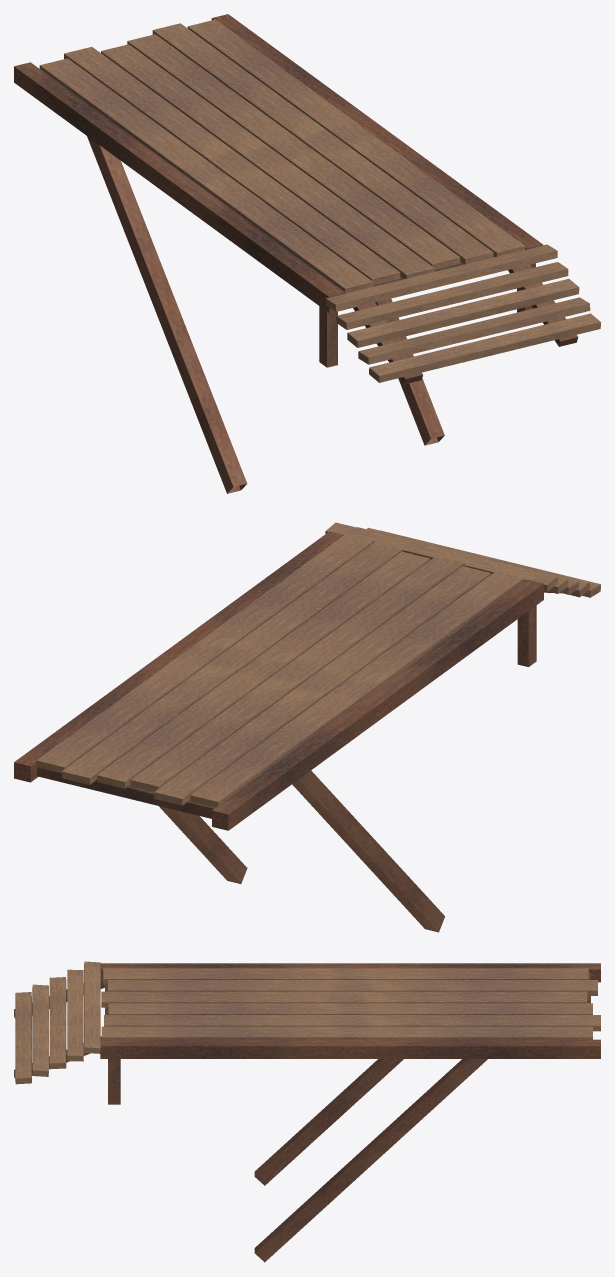
Rendered from ScaffoldStart.fbx.
The picture shows the model from 3 angles, top to bottom: view 1: azimuth 30°, elevation 25°; view 2: azimuth 150°, elevation 25°; view 3: azimuth 270°, elevation 25°; orthographic projection. The views are drawn at different scales.
Visible parts, largest first — view 1: Cube.025; view 2: Cube.025; view 3: Cube.025.
Part boxes in pixels (bbox=[...]): Cube.025: bbox=[14, 14, 600, 493]; Cube.025: bbox=[14, 522, 600, 932]; Cube.025: bbox=[14, 961, 600, 1262].
Bounding box in the file's own units: 388 × 461 × 1121.
